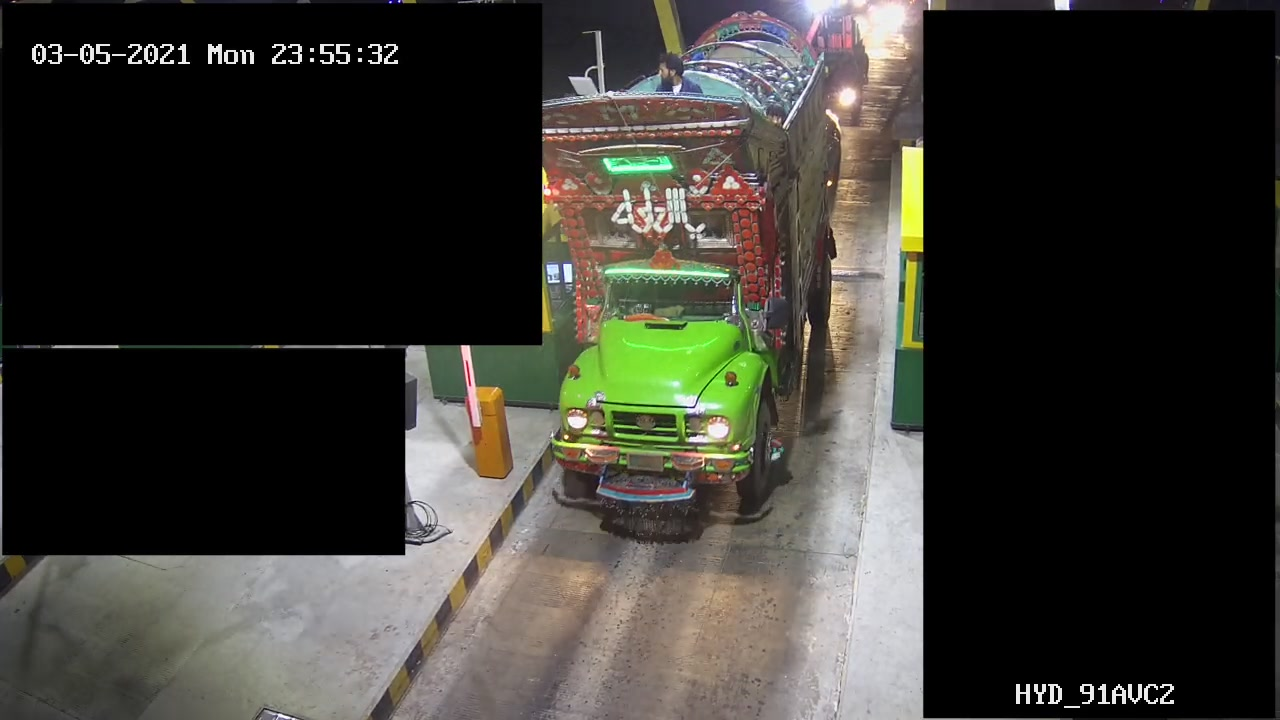F5: (535, 1, 835, 561)
